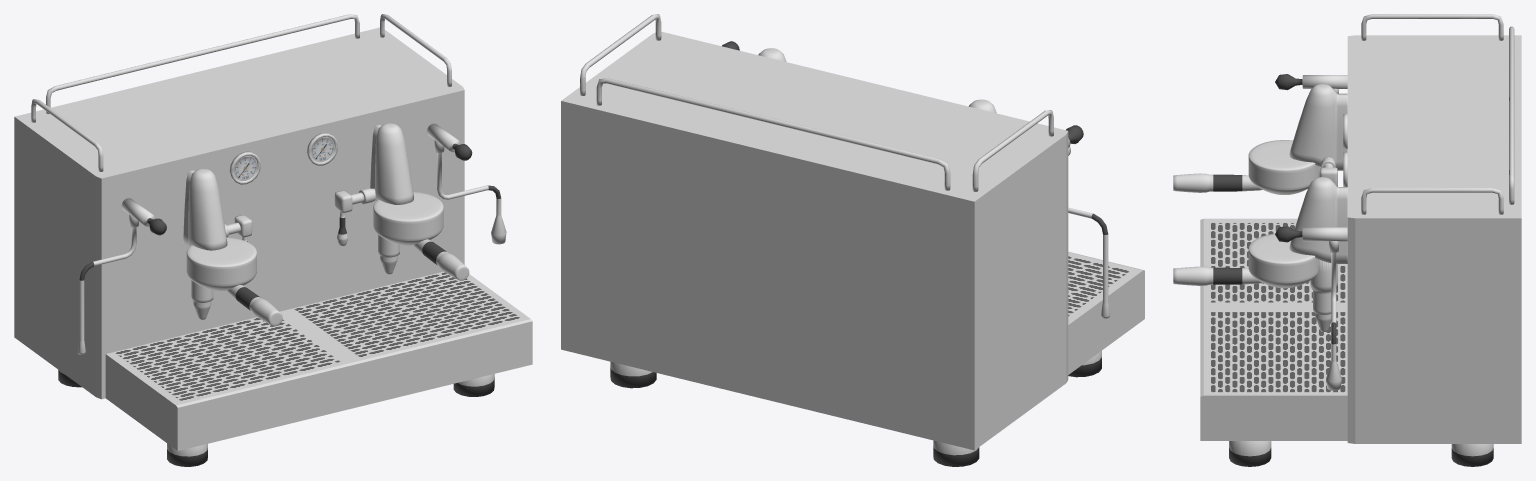
Rendered from cofee_machine.glb.
3 renders of one model, left to right at view 1: azimuth 30°, elevation 25°; view 2: azimuth 150°, elevation 25°; view 3: azimuth 270°, elevation 25°, orthographic. The views are drawn at different scales.
Parts seen in each view (by area): view 1: Cube.001, Cylinder.007_Cylinder.008, Cylinder.002, Cylinder.001, Cylinder.005_Cylinder.006, Cylinder.004_Cylinder.005, Cube.002, Cylinder.006_Cylinder.007, Cylinder.003_Cylinder.004; view 2: Cube.001, Cylinder.002, Cylinder.001, Cylinder.004_Cylinder.005; view 3: Cube.001, Cylinder.007_Cylinder.008, Cylinder.002, Cylinder.001, Cylinder.005_Cylinder.006, Cylinder.006_Cylinder.007, Cylinder.003_Cylinder.004.
Boxes of the visible parts, <box> form: Cube.001: <box>14,27,532,450</box>; Cylinder.007_Cylinder.008: <box>183,123,469,326</box>; Cylinder.002: <box>31,14,451,171</box>; Cylinder.001: <box>58,370,494,466</box>; Cylinder.005_Cylinder.006: <box>434,140,506,244</box>; Cylinder.004_Cylinder.005: <box>78,214,138,354</box>; Cube.002: <box>234,136,334,181</box>; Cylinder.006_Cylinder.007: <box>427,123,472,160</box>; Cylinder.003_Cylinder.004: <box>121,198,166,235</box>; Cube.001: <box>561,31,1144,450</box>; Cylinder.002: <box>580,14,1053,191</box>; Cylinder.001: <box>610,351,1101,466</box>; Cylinder.004_Cylinder.005: <box>1068,207,1109,318</box>; Cube.001: <box>1200,35,1521,443</box>; Cylinder.007_Cylinder.008: <box>1173,84,1347,331</box>; Cylinder.002: <box>1361,14,1514,214</box>; Cylinder.001: <box>1229,441,1493,466</box>; Cylinder.005_Cylinder.006: <box>1326,241,1341,390</box>; Cylinder.006_Cylinder.007: <box>1275,226,1347,242</box>; Cylinder.003_Cylinder.004: <box>1275,74,1347,90</box>.
Size of the model in its own units: 5.82 by 3.64 by 4.02.
Materials: 5 (4 with a texture image).
